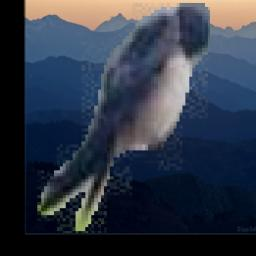Swallow: (37, 4, 210, 234)
